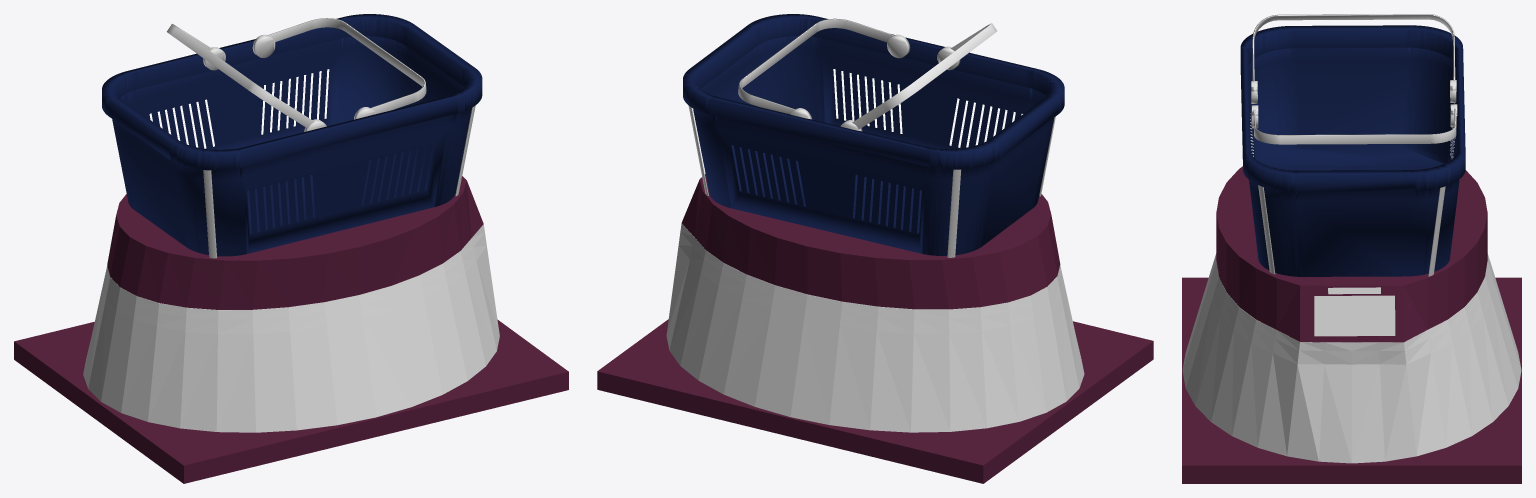
File: BasketBotModel.dae
3 views of the same model, side by side, from view 1: azimuth 30°, elevation 25°; view 2: azimuth 150°, elevation 25°; view 3: azimuth 270°, elevation 25° (orthographic).
Visible parts, largest first — view 1: Basket, Body, ScreenBody, WheelBase, BasketHolder_Rear_Right; view 2: Basket, Body, ScreenBody, WheelBase, BasketHolder_Rear_Left; view 3: Basket, Body, ScreenBody, WheelBase, InfoScreen, BasketHolder_Front_Left, BasketHolder_Front_Right, ProductScanner.
Boxes of the visible parts, <box> form: Basket: <box>102,14,482,256</box>; Body: <box>83,224,499,432</box>; ScreenBody: <box>107,176,483,309</box>; WheelBase: <box>14,319,568,483</box>; BasketHolder_Rear_Right: <box>203,170,216,258</box>; Basket: <box>683,14,1064,255</box>; Body: <box>666,223,1084,432</box>; ScreenBody: <box>681,174,1060,309</box>; WheelBase: <box>597,319,1153,483</box>; BasketHolder_Rear_Left: <box>947,169,961,257</box>; Basket: <box>1240,14,1465,276</box>; Body: <box>1182,253,1521,463</box>; ScreenBody: <box>1216,159,1487,342</box>; WheelBase: <box>1182,277,1521,483</box>; InfoScreen: <box>1314,295,1395,336</box>; BasketHolder_Front_Left: <box>1428,186,1445,276</box>; BasketHolder_Front_Right: <box>1258,185,1275,274</box>; ProductScanner: <box>1328,287,1380,294</box>.
Bounding box in the file's own units: 1.1 × 0.84 × 0.9234.
